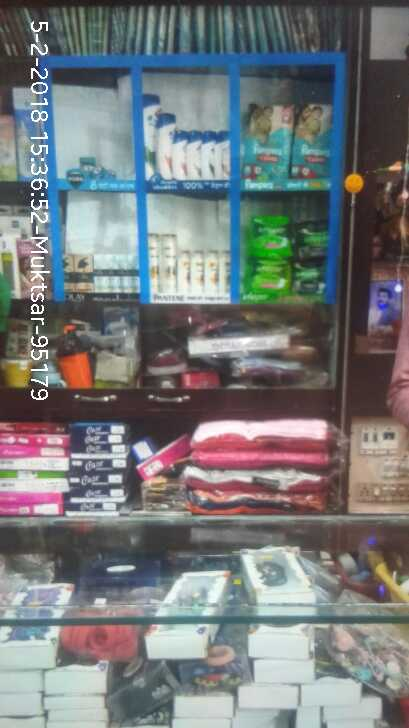vicks: (75, 155, 118, 184)
